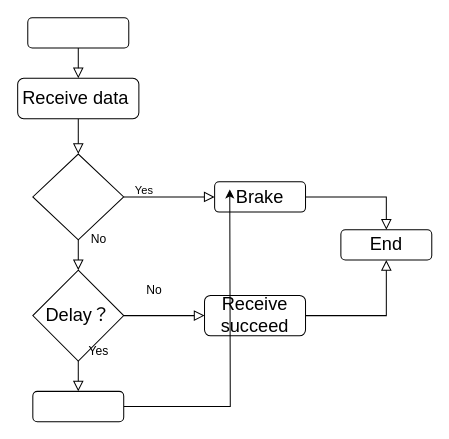
This 449x439 diagram has some shape labels left out. The box of each missing label's shape, as (x1, y1, x2, y2) in pixels:
Data lost?: (32, 153, 124, 240)
Pass: (32, 390, 124, 422)
Start: (27, 17, 129, 48)
